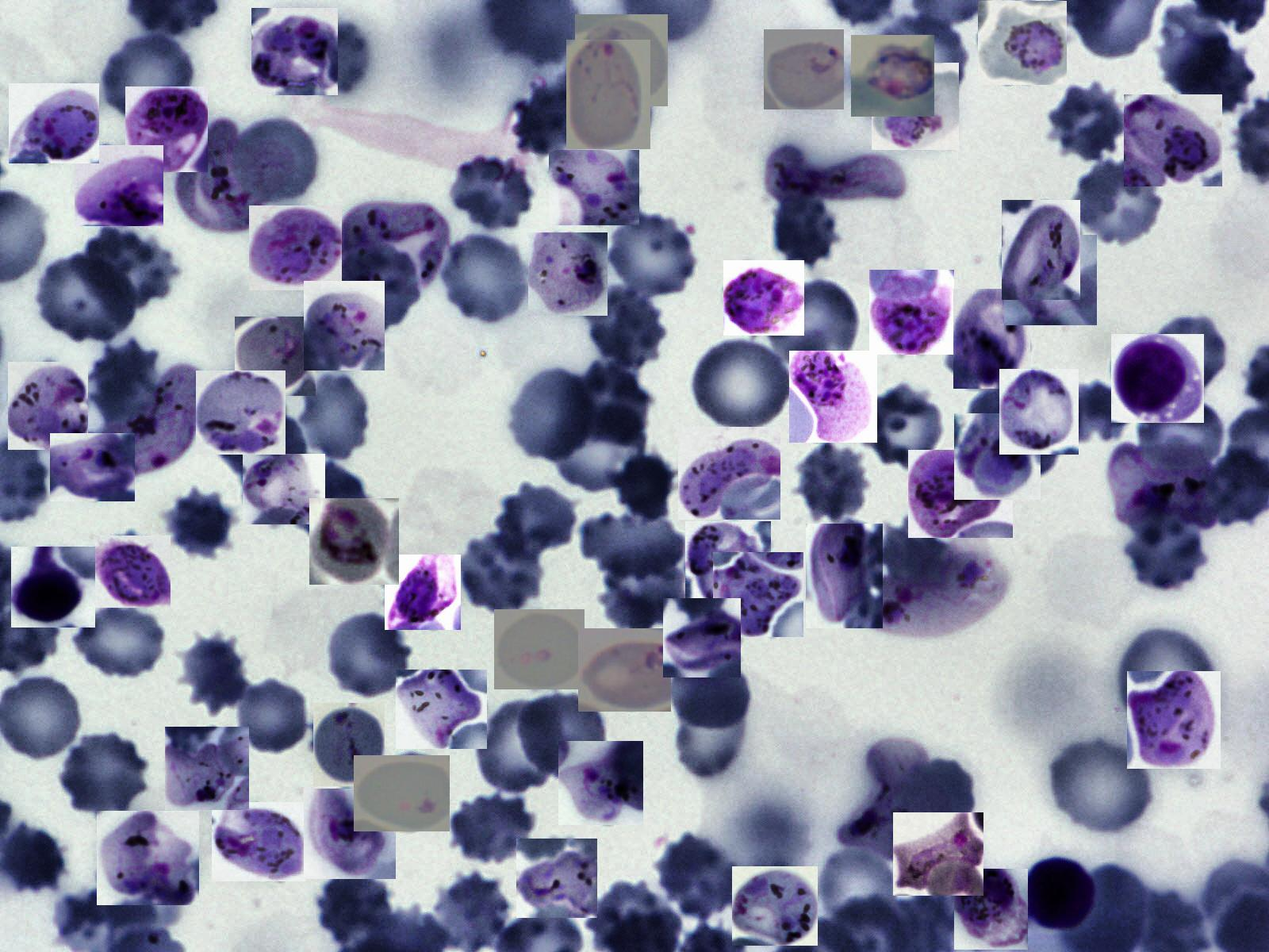Infected: (863, 534, 1008, 639), (95, 362, 207, 478), (834, 735, 927, 859), (336, 200, 453, 298), (173, 120, 265, 235), (1106, 439, 1224, 528), (97, 811, 199, 905), (678, 427, 780, 520), (908, 450, 1013, 538), (1127, 671, 1221, 769), (566, 40, 650, 149), (1124, 94, 1222, 186), (765, 142, 907, 202), (575, 15, 668, 106), (1004, 235, 1097, 325), (304, 789, 396, 879), (1111, 335, 1204, 423), (789, 351, 877, 443), (806, 524, 883, 628), (249, 205, 342, 290), (310, 498, 400, 585), (578, 628, 671, 712), (1002, 200, 1080, 300), (953, 289, 1030, 389), (713, 552, 803, 637), (196, 370, 286, 455), (872, 63, 959, 150), (251, 8, 338, 95), (954, 413, 1041, 500), (893, 812, 983, 896), (978, 1, 1067, 85), (212, 802, 305, 881), (354, 755, 450, 831), (494, 609, 585, 689), (869, 270, 954, 355), (304, 281, 385, 370), (9, 83, 99, 163), (396, 670, 487, 749), (558, 741, 643, 825), (125, 86, 208, 172), (75, 145, 163, 226), (165, 727, 249, 811), (8, 362, 88, 450), (685, 521, 771, 602), (732, 866, 818, 946), (999, 369, 1079, 455), (11, 547, 95, 628), (549, 150, 639, 225), (851, 36, 934, 117), (528, 232, 608, 316), (764, 29, 844, 109), (516, 839, 597, 918), (235, 317, 316, 396), (663, 599, 741, 678), (723, 261, 804, 336), (954, 869, 1028, 950), (313, 703, 385, 786), (1014, 858, 1094, 931), (50, 433, 135, 501), (243, 455, 325, 525), (385, 555, 461, 630), (94, 536, 171, 608)
Uninfected: (1045, 735, 1156, 839), (1112, 625, 1218, 731), (684, 335, 797, 434), (31, 251, 140, 345), (97, 28, 198, 125), (760, 278, 863, 373), (72, 228, 179, 317), (505, 366, 600, 464), (437, 232, 532, 327), (603, 209, 701, 300), (516, 686, 615, 775), (225, 118, 321, 209), (1072, 157, 1167, 248), (474, 701, 565, 794), (554, 405, 650, 493), (857, 383, 949, 474), (969, 383, 1057, 477), (1132, 393, 1227, 480), (217, 403, 305, 496), (323, 612, 413, 701), (57, 731, 151, 816), (669, 688, 754, 782), (329, 244, 420, 331), (873, 14, 967, 97), (282, 18, 373, 102), (455, 532, 548, 612), (569, 359, 654, 446), (289, 464, 376, 548), (581, 512, 690, 579), (512, 77, 604, 156), (1168, 33, 1258, 113), (583, 286, 670, 368), (599, 551, 686, 633), (654, 832, 734, 920), (1148, 313, 1233, 395), (447, 154, 536, 231), (447, 792, 538, 867), (493, 484, 581, 559), (819, 849, 899, 931), (904, 759, 974, 852), (1160, 4, 1231, 94), (794, 443, 872, 524), (159, 486, 240, 563), (431, 874, 512, 951), (176, 633, 251, 716), (79, 604, 163, 678), (90, 340, 162, 426), (1046, 83, 1127, 159), (769, 190, 845, 268), (230, 676, 309, 751), (1132, 512, 1207, 591), (301, 374, 370, 459), (673, 657, 754, 727), (611, 448, 682, 526), (1046, 381, 1130, 444)
